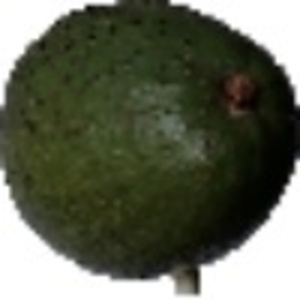abacate: (1, 1, 299, 282)
